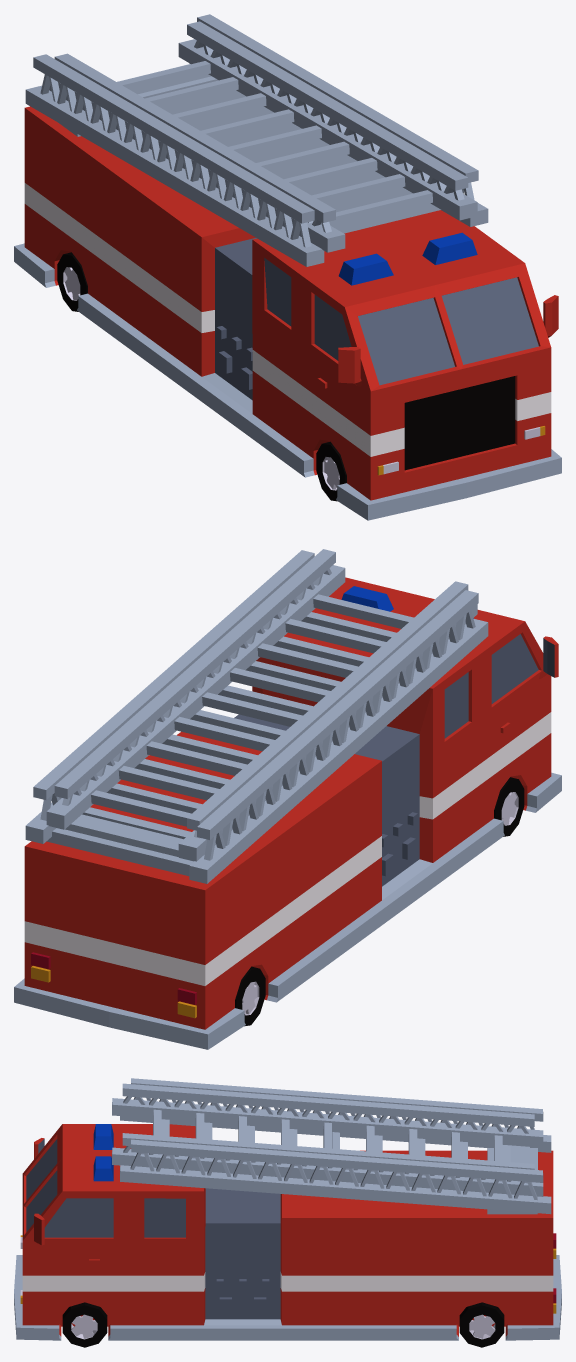
The model's file is rgs-Firetruck.glb.
The picture shows the model from 3 angles, top to bottom: view 1: azimuth 30°, elevation 25°; view 2: azimuth 150°, elevation 25°; view 3: azimuth 270°, elevation 25°; orthographic projection. The views are drawn at different scales.
Visible parts, largest first — view 1: Firetruck, Firetruck wheel front right, Firetruck wheel rear right; view 2: Firetruck, Firetruck wheel rear right, Firetruck wheel front right; view 3: Firetruck, Firetruck wheel front left, Firetruck wheel rear left.
Part boxes in pixels (bbox=[...]): Firetruck: bbox=[14, 14, 561, 520]; Firetruck wheel front right: bbox=[316, 441, 346, 501]; Firetruck wheel rear right: bbox=[57, 252, 87, 311]; Firetruck: bbox=[14, 549, 561, 1049]; Firetruck wheel rear right: bbox=[235, 966, 265, 1026]; Firetruck wheel front right: bbox=[494, 777, 524, 836]; Firetruck: bbox=[14, 1078, 561, 1340]; Firetruck wheel front left: bbox=[62, 1302, 107, 1347]; Firetruck wheel rear left: bbox=[459, 1302, 504, 1347].
Bounding box in the file's own units: 3.41 × 3.93 × 9.6.
